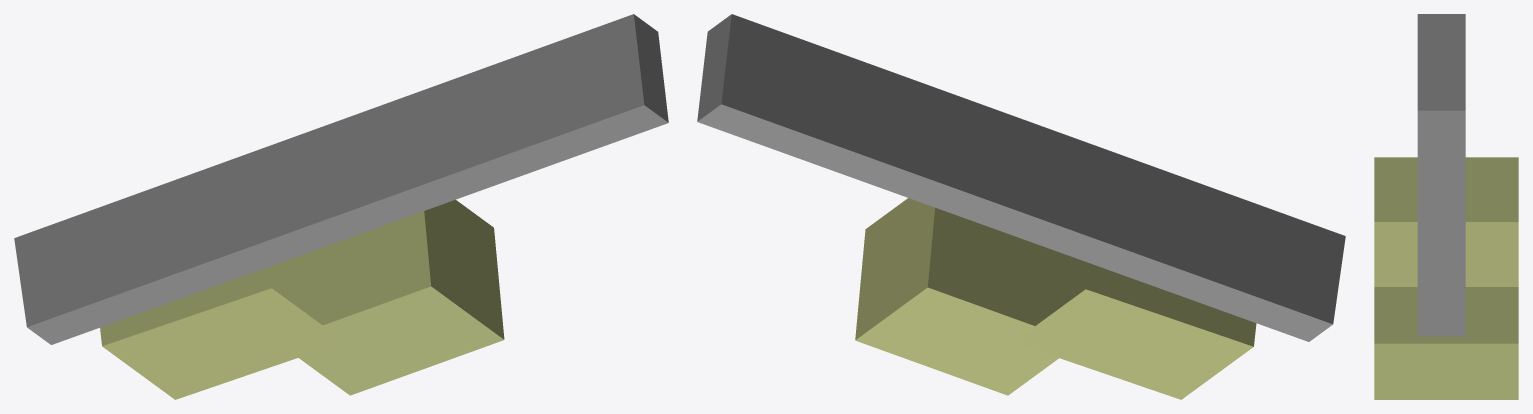
3 renders of one model, left to right at view 1: azimuth 30°, elevation 25°; view 2: azimuth 150°, elevation 25°; view 3: azimuth 270°, elevation 25°, orthographic.
Parts seen in each view (by area): view 1: 0_1_3_2_1_2_2_1_3; view 2: 0_1_3_2_1_2_2_1_3; view 3: 0_1_3_2_1_2_2_1_3.
Part boxes in pixels (bbox=[...]): 0_1_3_2_1_2_2_1_3: bbox=[14, 14, 668, 399]; 0_1_3_2_1_2_2_1_3: bbox=[697, 14, 1345, 399]; 0_1_3_2_1_2_2_1_3: bbox=[1374, 14, 1518, 399].
Bounding box in the file's own units: 44.7 × 18.11 × 9.
